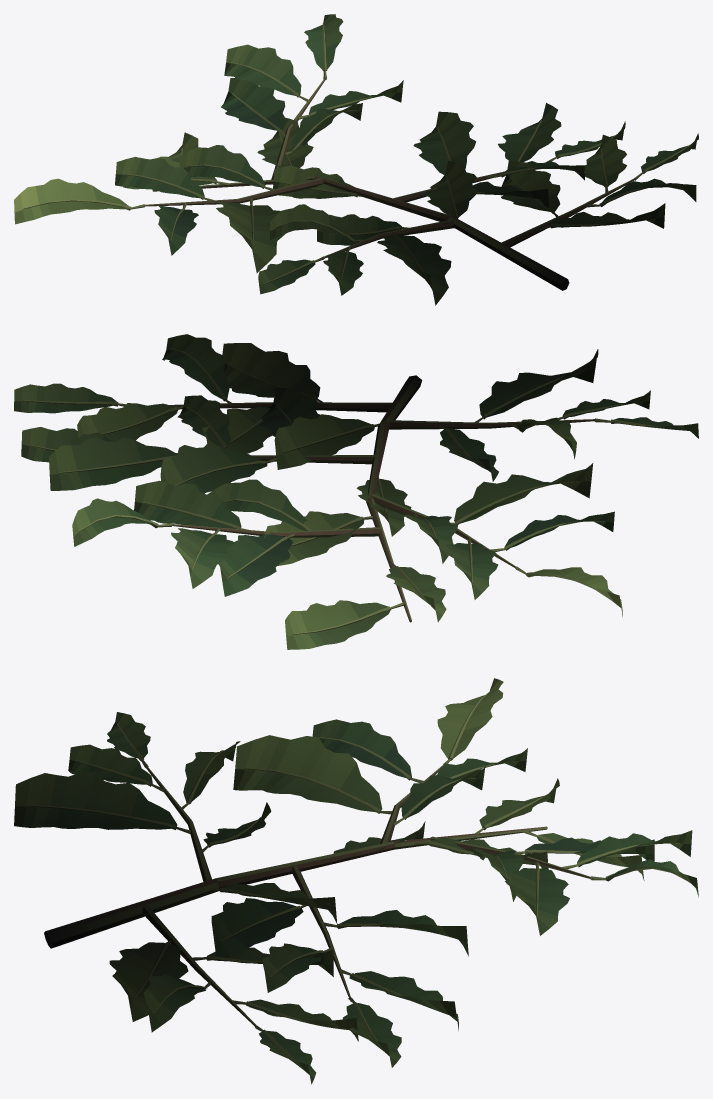
File: Oak_Spray_Cascade.fbx
3 renders of one model, top to bottom at view 1: azimuth 30°, elevation 25°; view 2: azimuth 150°, elevation 25°; view 3: azimuth 270°, elevation 25°, orthographic. The views are drawn at different scales.
Parts seen in each view (by area): view 1: Oak_Spray_Cascade; view 2: Oak_Spray_Cascade; view 3: Oak_Spray_Cascade.
Part boxes in pixels (box(x1,y1,x2,y2)): Oak_Spray_Cascade: box(14, 14, 698, 305); Oak_Spray_Cascade: box(14, 334, 698, 649); Oak_Spray_Cascade: box(14, 678, 698, 1084).
Bounding box in the file's own units: 1.1 × 0.1621 × 0.8921.
